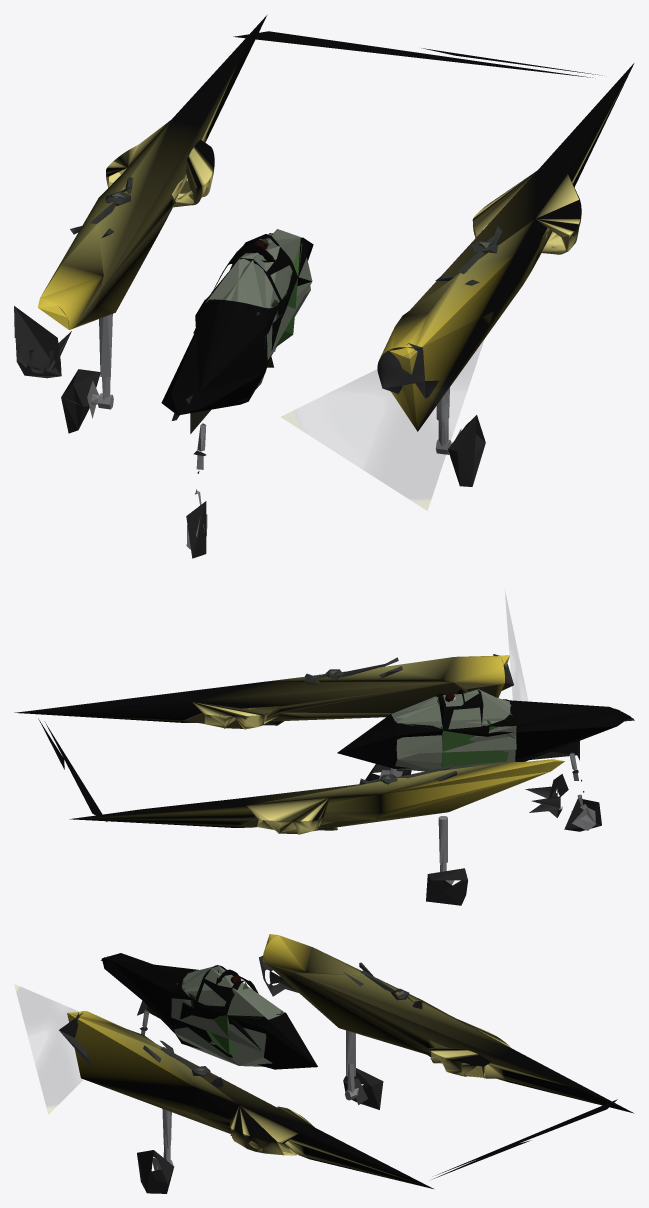
The picture shows the model from 3 angles, top to bottom: view 1: azimuth 30°, elevation 25°; view 2: azimuth 150°, elevation 25°; view 3: azimuth 270°, elevation 25°; orthographic projection. The views are drawn at different scales.
Visible parts, largest first — view 1: pt_sponson01-FACES, Cylinder01-FACES, pt_door_i01-FACES, Object03-FACES, Object02-FACES, st_mn_tyre-FACES, st_mn_lnk1-FACES, st_mn_lnk3-FACES; view 2: pt_sponson01-FACES, pt_door_i01-FACES, Object03-FACES, st_mn_tyre-FACES, comp-FACES, st_mn_lnk1-FACES, st_mn_lnk3-FACES, Object02-FACES, Cylinder01-FACES; view 3: pt_sponson01-FACES, pt_door_i01-FACES, Object03-FACES, Cylinder01-FACES, st_mn_tyre-FACES, st_mn_lnk1-FACES, st_mn_lnk3-FACES, Object02-FACES, comp-FACES.
Boxes of the visible parts, left/top/right/bottom form: pt_sponson01-FACES: left=38, top=15, right=634, bottom=431; Cylinder01-FACES: left=282, top=312, right=492, bottom=509; pt_door_i01-FACES: left=161, top=48, right=602, bottom=415; Object03-FACES: left=206, top=229, right=312, bottom=388; Object02-FACES: left=14, top=306, right=438, bottom=398; st_mn_tyre-FACES: left=61, top=369, right=485, bottom=558; st_mn_lnk1-FACES: left=87, top=314, right=461, bottom=549; st_mn_lnk3-FACES: left=70, top=177, right=502, bottom=285; pt_sponson01-FACES: left=14, top=655, right=564, bottom=834; pt_door_i01-FACES: left=38, top=689, right=630, bottom=769; Object03-FACES: left=391, top=689, right=516, bottom=771; st_mn_tyre-FACES: left=365, top=764, right=601, bottom=905; comp-FACES: left=404, top=697, right=514, bottom=767; st_mn_lnk1-FACES: left=379, top=752, right=595, bottom=884; st_mn_lnk3-FACES: left=304, top=657, right=456, bottom=785; Object02-FACES: left=493, top=654, right=568, bottom=817; Cylinder01-FACES: left=505, top=593, right=527, bottom=700; pt_sponson01-FACES: left=67, top=934, right=633, bottom=1188; pt_door_i01-FACES: left=102, top=953, right=530, bottom=1179; Object03-FACES: left=171, top=965, right=284, bottom=1066; Cylinder01-FACES: left=15, top=985, right=82, bottom=1113; st_mn_tyre-FACES: left=137, top=1068, right=383, bottom=1193; st_mn_lnk1-FACES: left=141, top=1009, right=367, bottom=1170; st_mn_lnk3-FACES: left=143, top=962, right=422, bottom=1087; Object02-FACES: left=59, top=956, right=298, bottom=1068; comp-FACES: left=176, top=982, right=259, bottom=1054.
Size of the model in its own units: 6.6 by 2.27 by 6.94.
19 materials, 1 textured.
